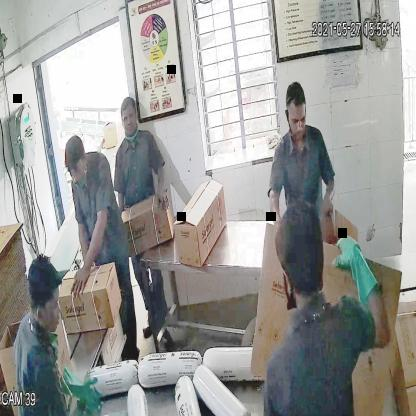no_goggles: (283, 111, 312, 131), (119, 109, 140, 126)
